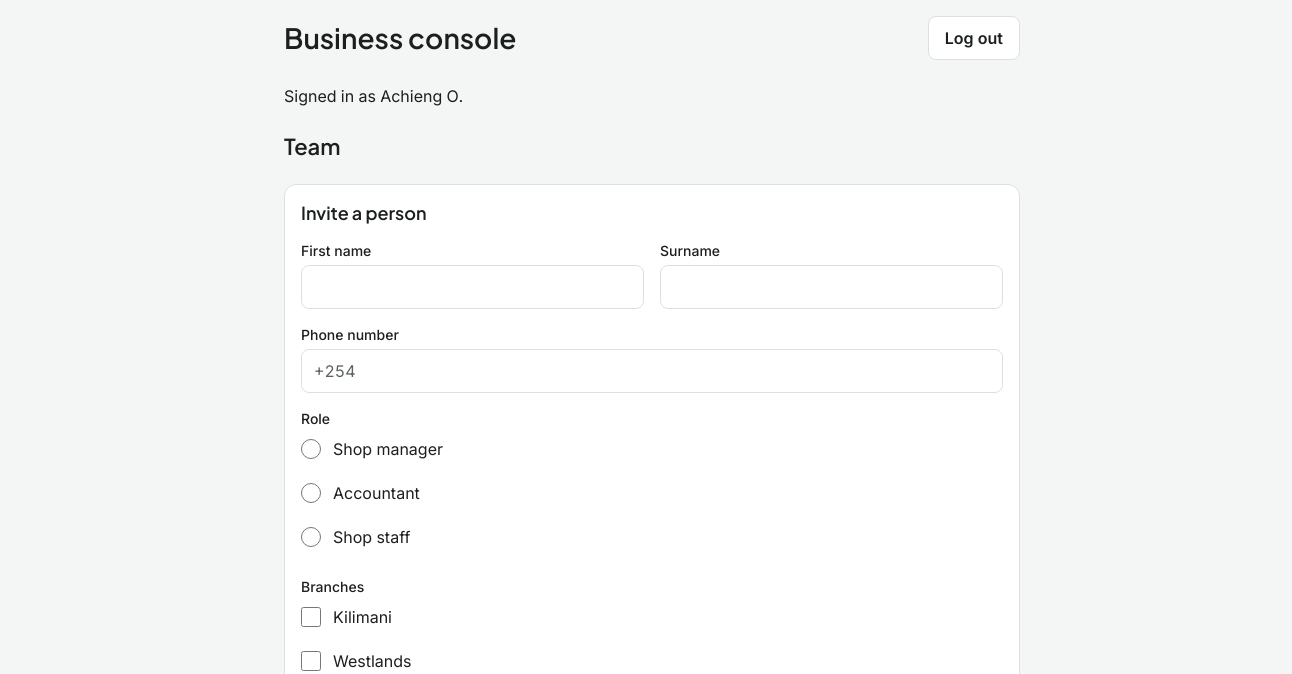
Test case: A-41 invite form › sends no rights for managers and accountants
In the field labelled "First name": (472,287) 302,267 -> 643,307, type "Achieng"
In the field labelled "Surname": (832,287) 661,267 -> 1002,307, type "Otieno"
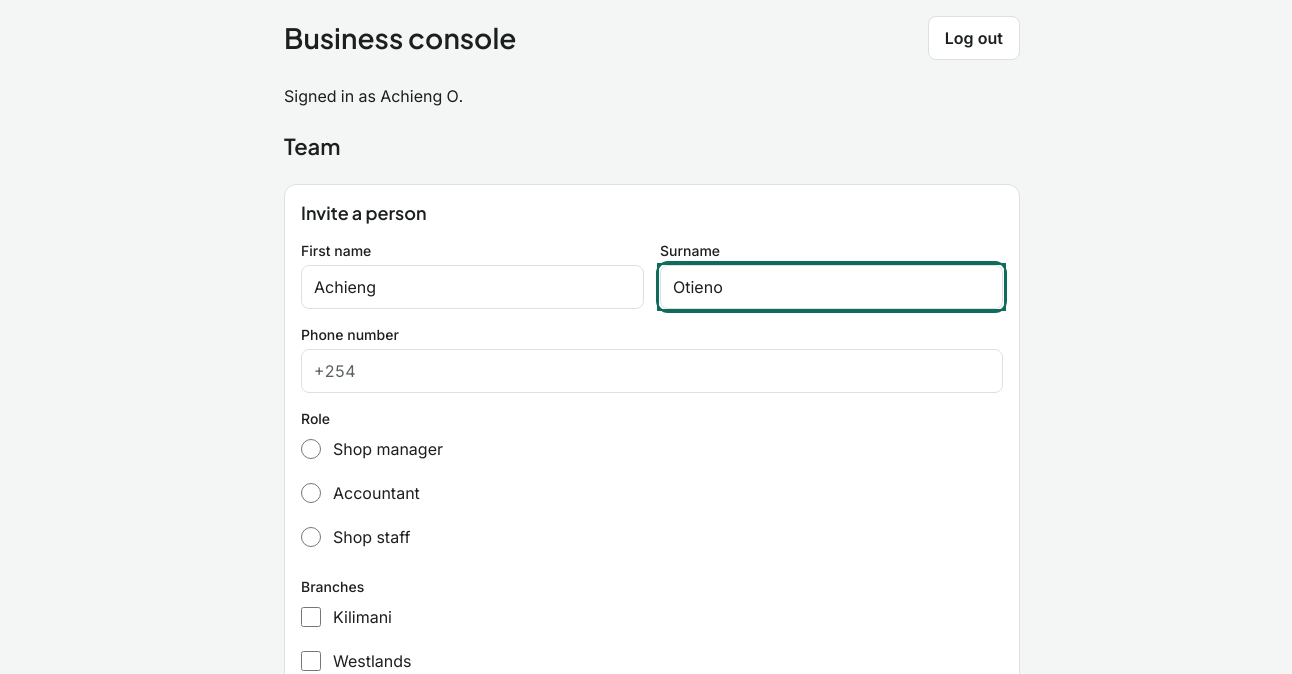
In the field labelled "Phone number": (679,371) 356,351 -> 1002,391, type "0722000222"
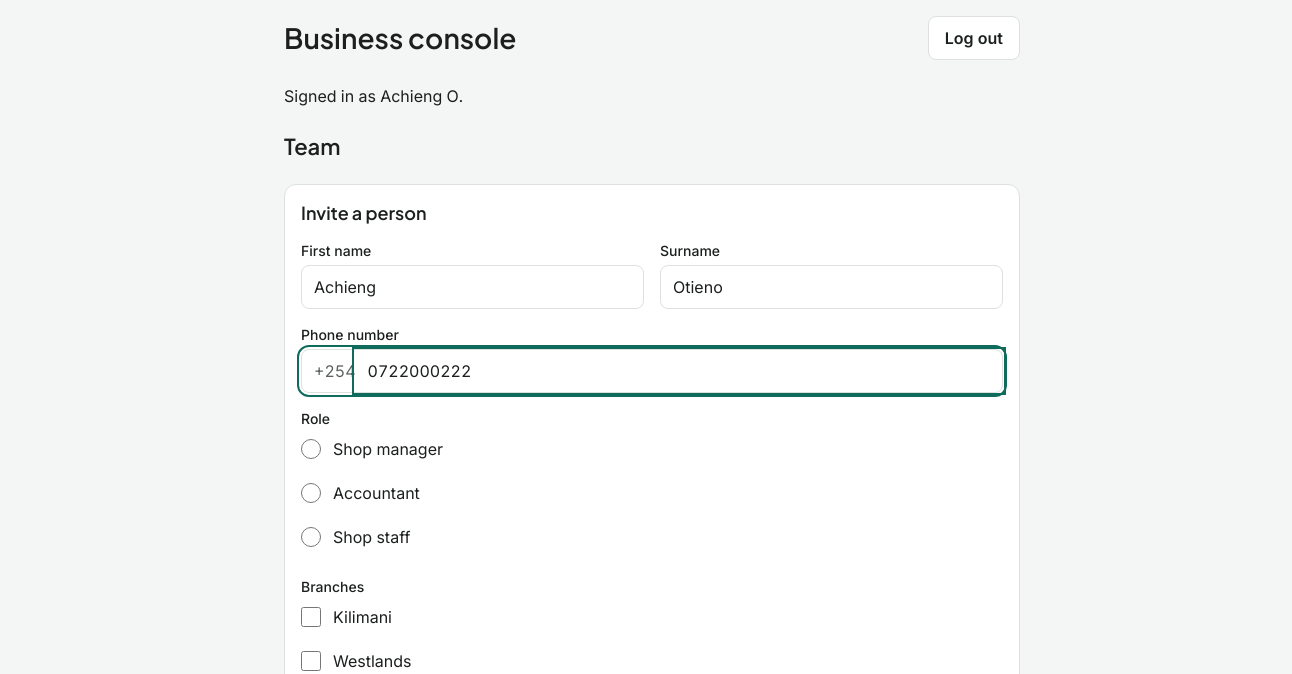
Click the radio button labelled "Shop staff": (311,537) 301,527 -> 321,547
(page scrolled)
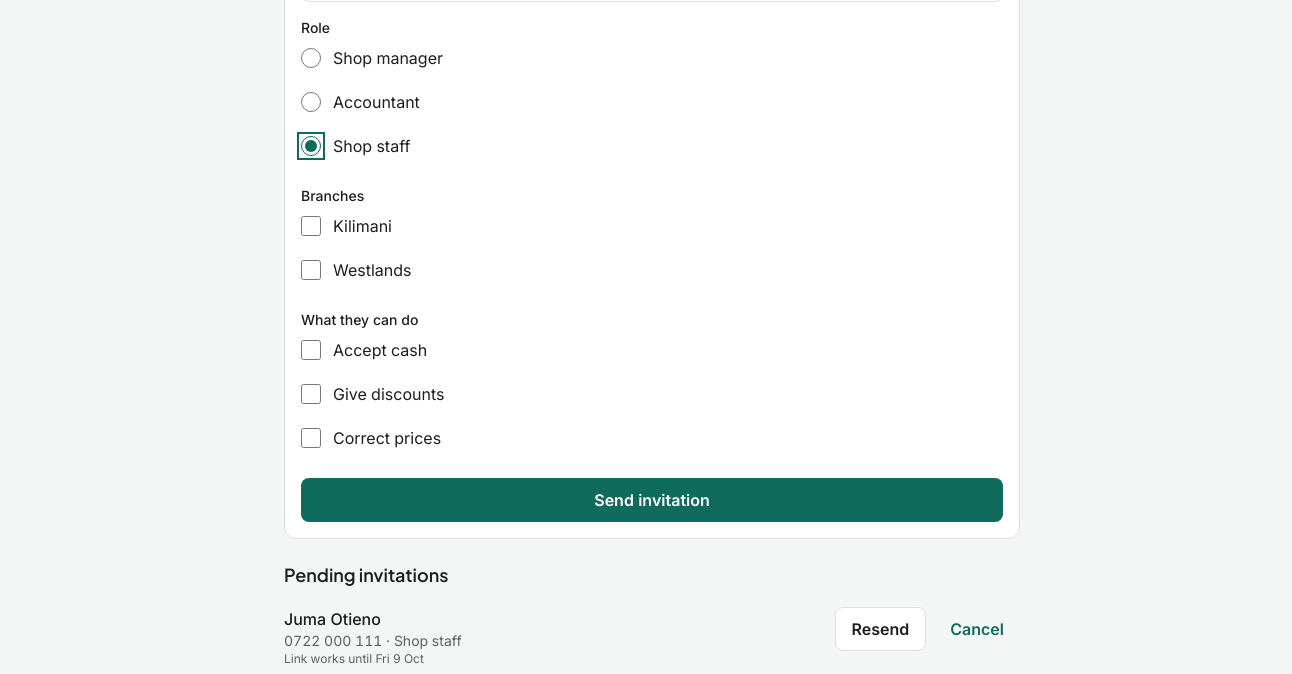
Click the checkbox labelled "Give discounts": (311,394) 301,384 -> 321,404
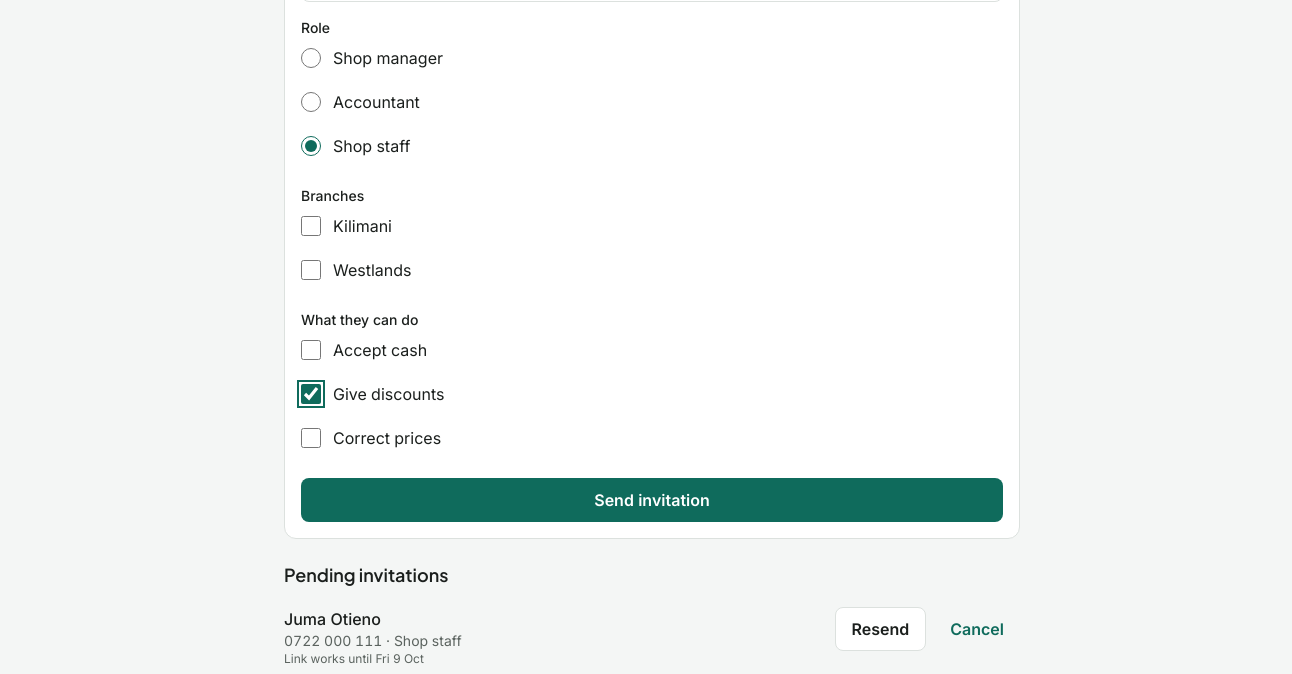
Click the radio button labelled "Shop manager": (311,58) 301,48 -> 321,68
(page scrolled)
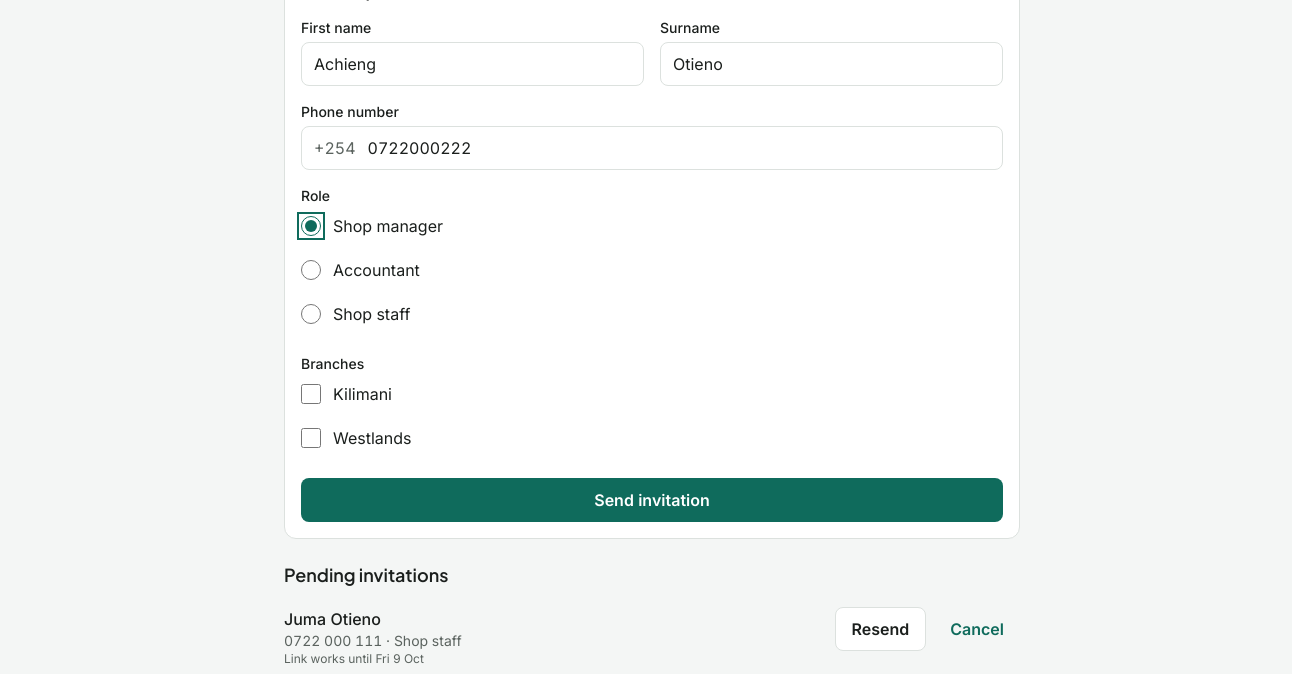
Click the button "Send invitation": (652,500) 301,478 -> 1003,522
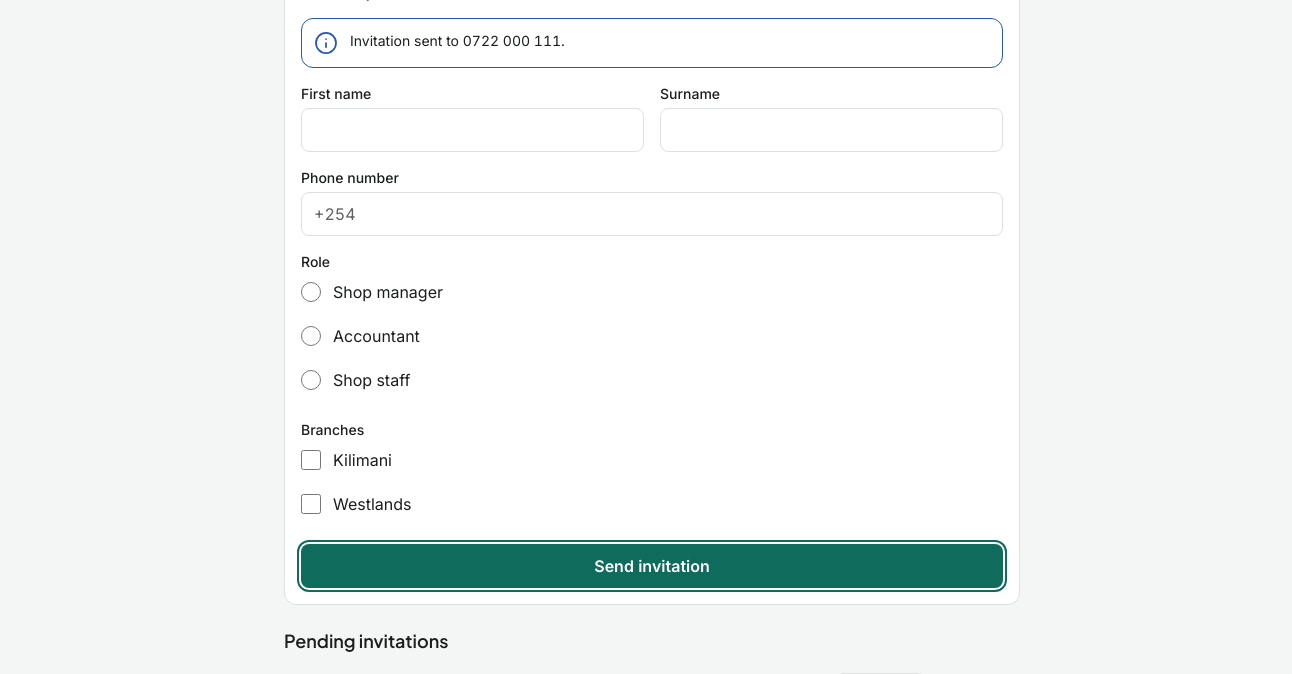
Check: the text "Invitation sent to 0722 000 111." is shown, box 350,32 -> 565,49
